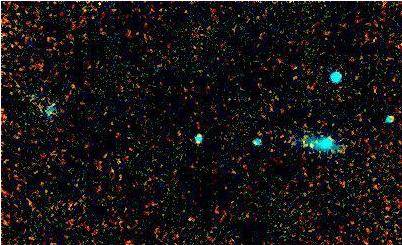star: (293, 129, 323, 159)
